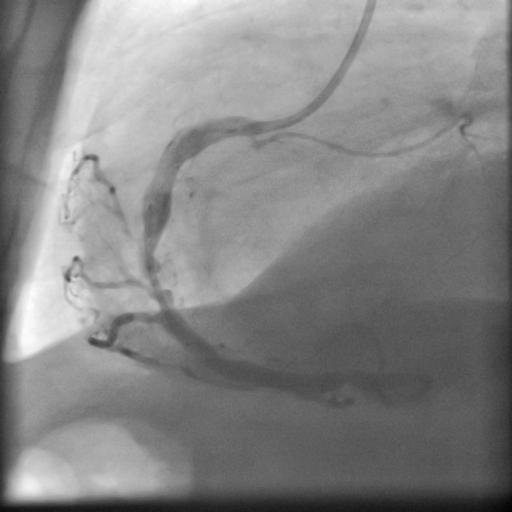Stenosis: (141, 255, 171, 302)
